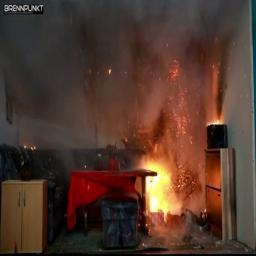fire: (133, 148, 186, 225)
